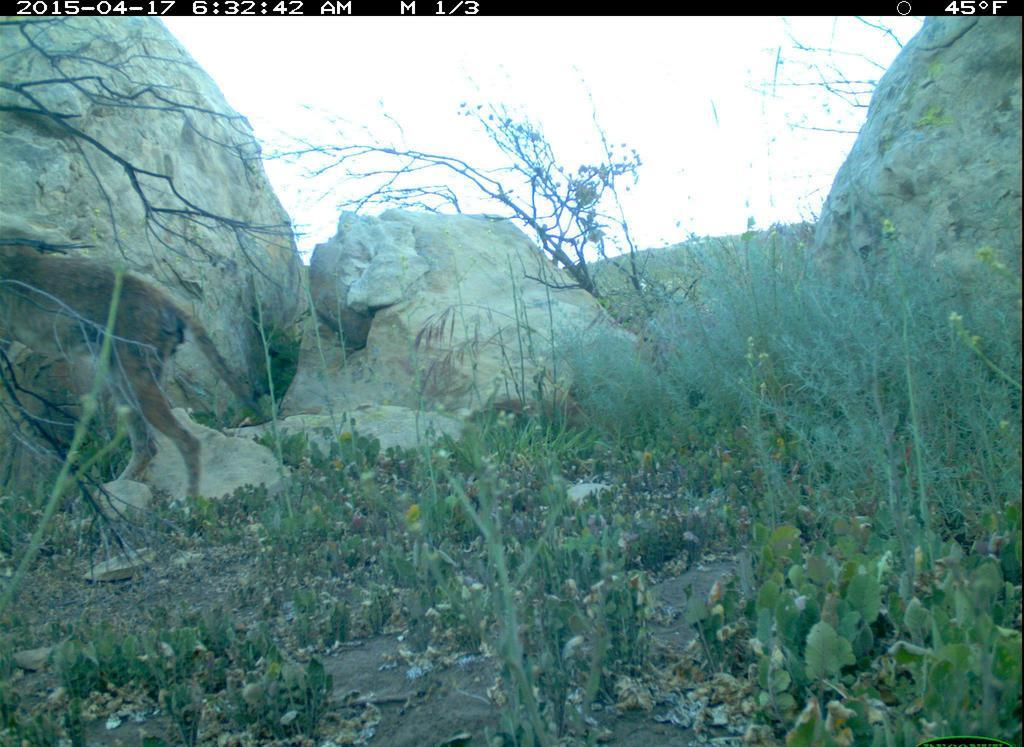coyote: (2, 222, 274, 521)
